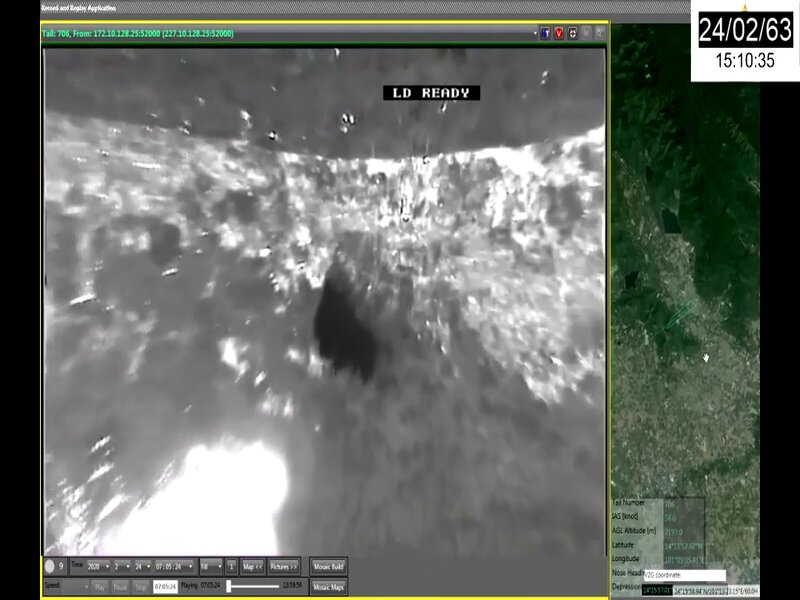Fire: (61, 440, 289, 555)
